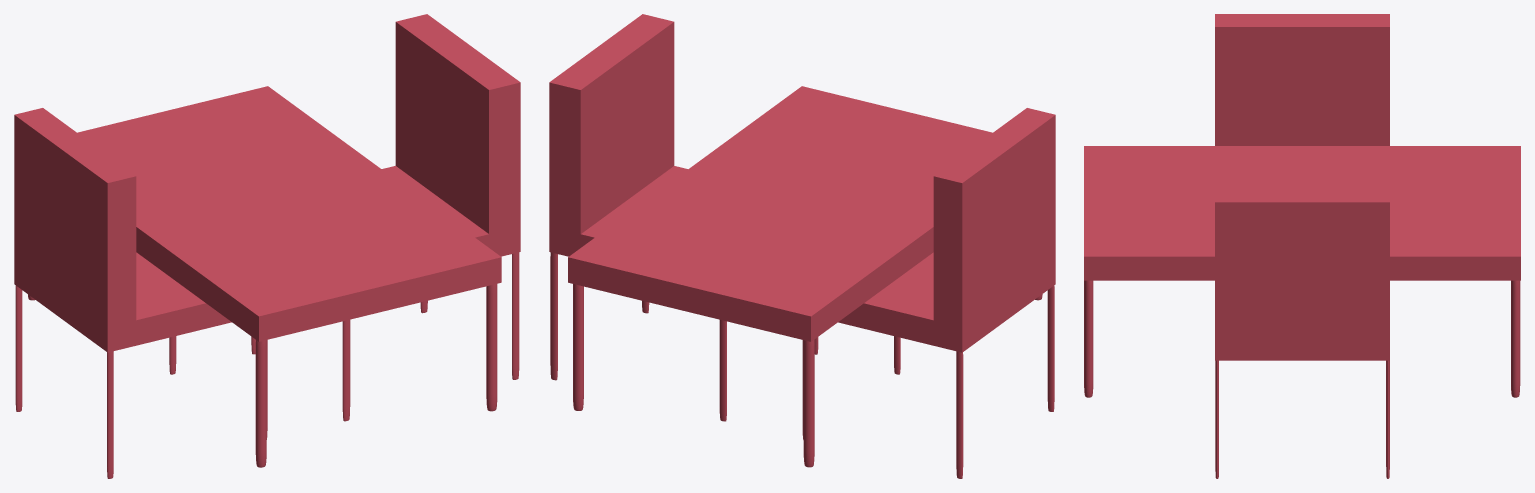
File: Smooth Curcan-Migelo (1).glb
The picture shows the model from 3 angles, left to right: view 1: azimuth 30°, elevation 25°; view 2: azimuth 150°, elevation 25°; view 3: azimuth 270°, elevation 25°; orthographic projection. The views are drawn at different scales.
Visible parts, largest first — view 1: Mesh_Mesh_head_geo.001_lambert2SG.001; view 2: Mesh_Mesh_head_geo.001_lambert2SG.001; view 3: Mesh_Mesh_head_geo.001_lambert2SG.001.
Part boxes in pixels (<box>): Mesh_Mesh_head_geo.001_lambert2SG.001: <box>14,14,520,478</box>; Mesh_Mesh_head_geo.001_lambert2SG.001: <box>549,14,1055,478</box>; Mesh_Mesh_head_geo.001_lambert2SG.001: <box>1084,14,1520,478</box>.
Bounding box in the file's own units: 51 × 35 × 50.
